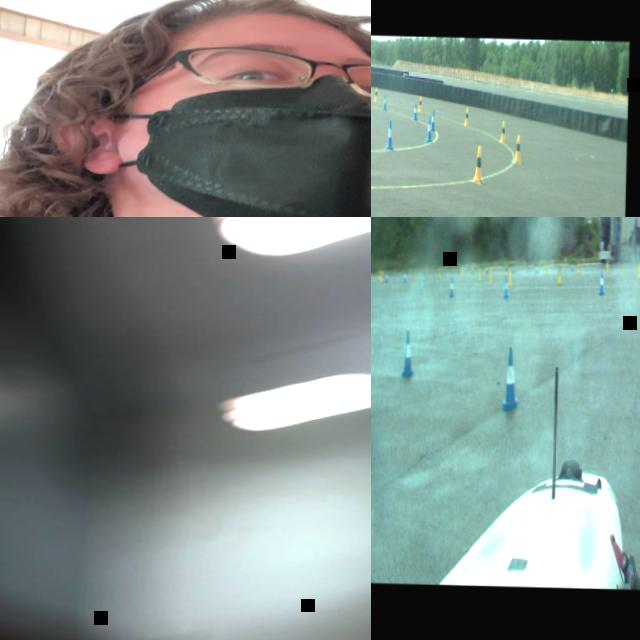Mask: (105, 67, 371, 217)
NO-Hardhat: (81, 0, 371, 68)
Person: (0, 0, 371, 217)
Safety Cone: (501, 345, 520, 410), (400, 330, 415, 378), (473, 143, 484, 183), (385, 119, 394, 149), (598, 269, 606, 294), (514, 133, 521, 161), (426, 116, 432, 141), (500, 119, 506, 143), (449, 276, 455, 298), (503, 276, 509, 298), (463, 106, 469, 125), (430, 108, 435, 130), (419, 276, 425, 294), (557, 264, 562, 284), (413, 101, 418, 119), (489, 266, 494, 284), (460, 262, 465, 278), (402, 268, 407, 283), (470, 265, 475, 279), (508, 269, 512, 286), (636, 260, 640, 277), (418, 95, 422, 110), (478, 265, 482, 280), (606, 258, 610, 272), (505, 263, 509, 276), (438, 265, 442, 278), (535, 261, 539, 273), (457, 262, 461, 274), (383, 93, 386, 108), (385, 271, 389, 282), (576, 262, 580, 273), (571, 261, 575, 272), (374, 86, 377, 100), (544, 262, 547, 274), (512, 262, 515, 273), (381, 269, 384, 280), (378, 268, 381, 278), (582, 254, 585, 263), (564, 256, 567, 264), (523, 257, 526, 265), (551, 255, 554, 263)
